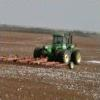Tractor: (21, 23, 88, 78)
